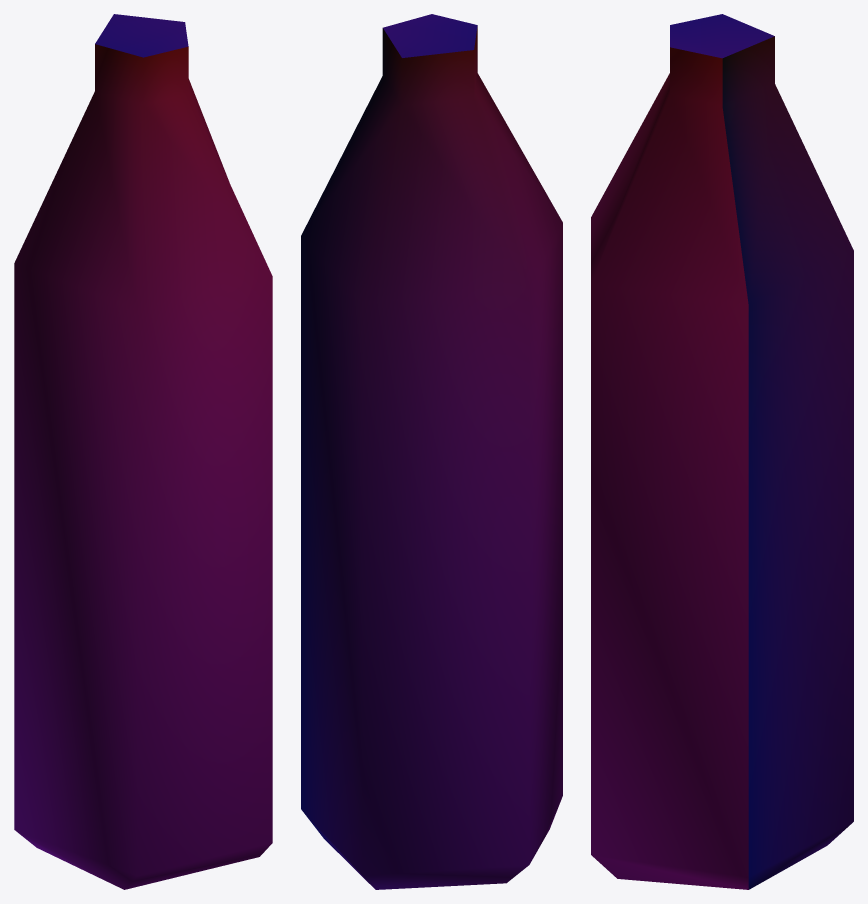
Rendered from model_2CBE.glb.
3 views of the same model, side by side, from view 1: azimuth 30°, elevation 25°; view 2: azimuth 150°, elevation 25°; view 3: azimuth 270°, elevation 25° (orthographic).
Visible parts, largest first — view 1: part; view 2: part; view 3: part.
Part boxes in pixels (x1=…): part: x1=14, y1=14, x2=272, y2=889; part: x1=301, y1=14, x2=562, y2=889; part: x1=591, y1=14, x2=853, y2=889.
Size of the model in its own units: 1290 by 4386 by 1290.
